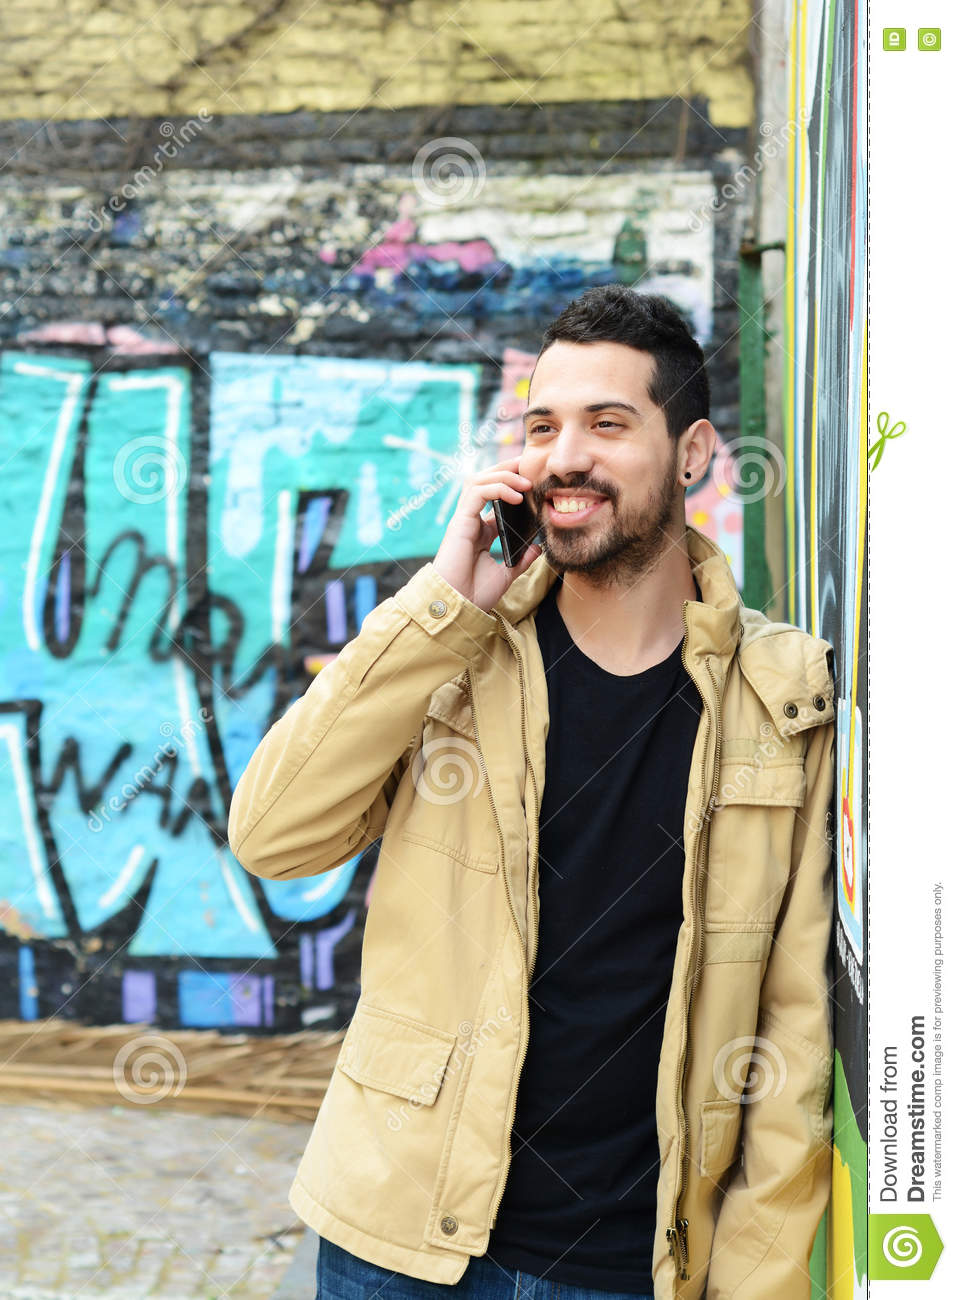phone: (491, 452, 541, 570)
talk: (439, 384, 646, 614)
